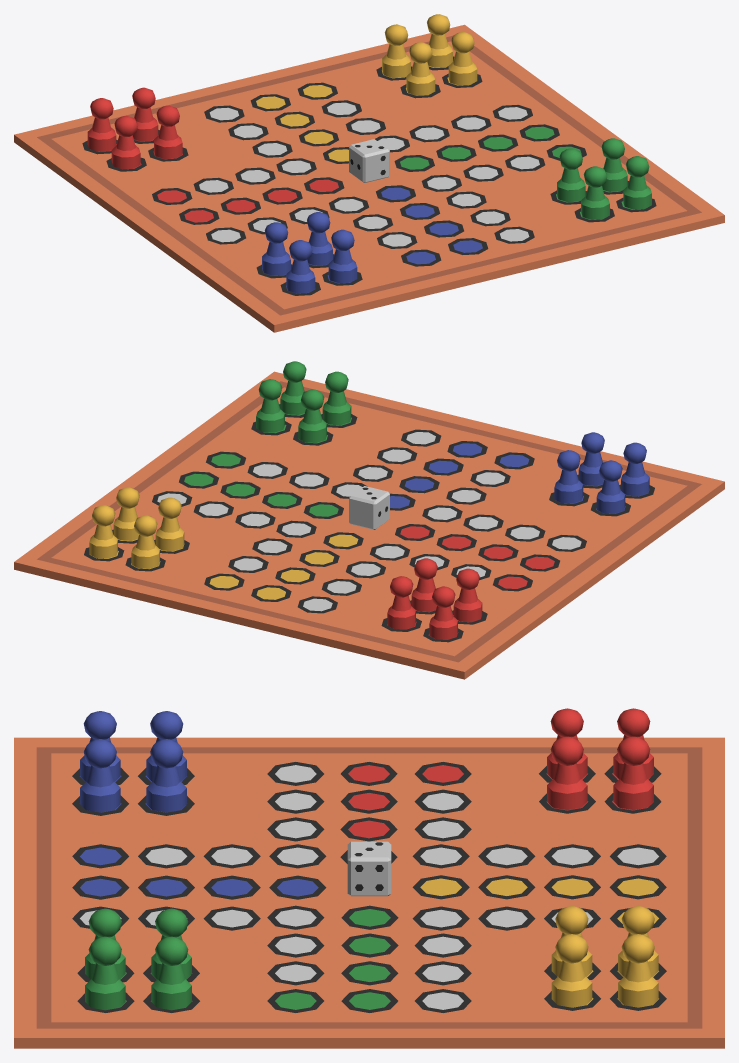
File: BoardGame_01.fbx
The picture shows the model from 3 angles, top to bottom: view 1: azimuth 30°, elevation 25°; view 2: azimuth 150°, elevation 25°; view 3: azimuth 270°, elevation 25°; orthographic projection. The views are drawn at different scales.
Parts seen in each view (by area): view 1: BoardGame_01, Dice_01, PieceY_01, PieceB_02, PieceR_02, PieceY_04, PieceB_03, PieceR_03, PieceG_03, PieceG_02, PieceY_03, PieceR_04 (+6 smaller); view 2: BoardGame_01, Dice_01, PieceB_04, PieceB_01, PieceR_03, PieceY_04, PieceG_03, PieceG_01, PieceR_01, PieceR_02, PieceG_04, PieceY_02 (+6 smaller); view 3: BoardGame_01, Dice_01, PieceB_04, PieceY_02, PieceY_01, PieceR_01, PieceR_04, PieceB_03, PieceG_02, PieceG_01, PieceY_04, PieceY_03 (+6 smaller).
Part boxes in pixels (x1=…): BoardGame_01: x1=14, y1=24, x2=724, y2=332; Dice_01: x1=349, y1=139, x2=389, y2=182; PieceY_01: x1=448, y1=32, x2=477, y2=85; PieceB_02: x1=286, y1=240, x2=315, y2=293; PieceR_02: x1=87, y1=98, x2=116, y2=151; PieceY_04: x1=406, y1=42, x2=435, y2=95; PieceB_03: x1=328, y1=229, x2=357, y2=283; PieceR_03: x1=111, y1=115, x2=140, y2=169; PieceG_03: x1=581, y1=166, x2=609, y2=219; PieceG_02: x1=623, y1=156, x2=651, y2=209; PieceY_03: x1=382, y1=24, x2=410, y2=77; PieceR_04: x1=154, y1=105, x2=182, y2=158; BoardGame_01: x1=14, y1=371, x2=724, y2=679; Dice_01: x1=349, y1=486, x2=389, y2=529; PieceB_04: x1=554, y1=450, x2=583, y2=503; PieceB_01: x1=596, y1=460, x2=625, y2=513; PieceR_03: x1=453, y1=568, x2=482, y2=622; PieceY_04: x1=155, y1=497, x2=184, y2=551; PieceG_03: x1=322, y1=371, x2=351, y2=425; PieceG_01: x1=256, y1=379, x2=284, y2=432; PieceR_01: x1=387, y1=576, x2=415, y2=629; PieceR_02: x1=429, y1=586, x2=457, y2=639; PieceG_04: x1=298, y1=389, x2=326, y2=442; PieceY_02: x1=89, y1=505, x2=117, y2=558; BoardGame_01: x1=14, y1=737, x2=724, y2=1048; Dice_01: x1=347, y1=841, x2=391, y2=896; PieceB_04: x1=146, y1=739, x2=186, y2=812; PieceY_02: x1=618, y1=934, x2=658, y2=1007; PieceY_01: x1=551, y1=934, x2=592, y2=1007; PieceR_01: x1=613, y1=736, x2=653, y2=810; PieceR_04: x1=547, y1=736, x2=587, y2=809; PieceB_03: x1=80, y1=739, x2=120, y2=812; PieceG_02: x1=85, y1=936, x2=125, y2=1010; PieceG_01: x1=151, y1=936, x2=191, y2=1010; PieceY_04: x1=551, y1=906, x2=592, y2=976; PieceY_03: x1=618, y1=906, x2=658, y2=976.
Bounding box in the file's own units: 0.5073 × 0.0581 × 0.5073.
